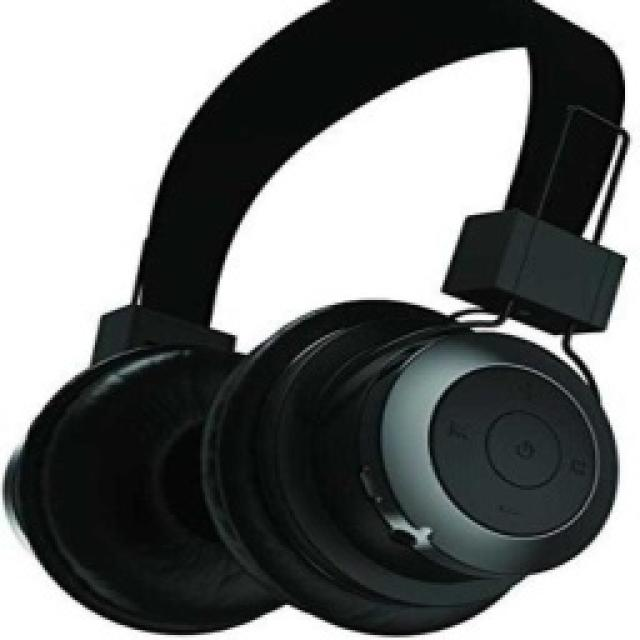headphones: (0, 0, 630, 638)
